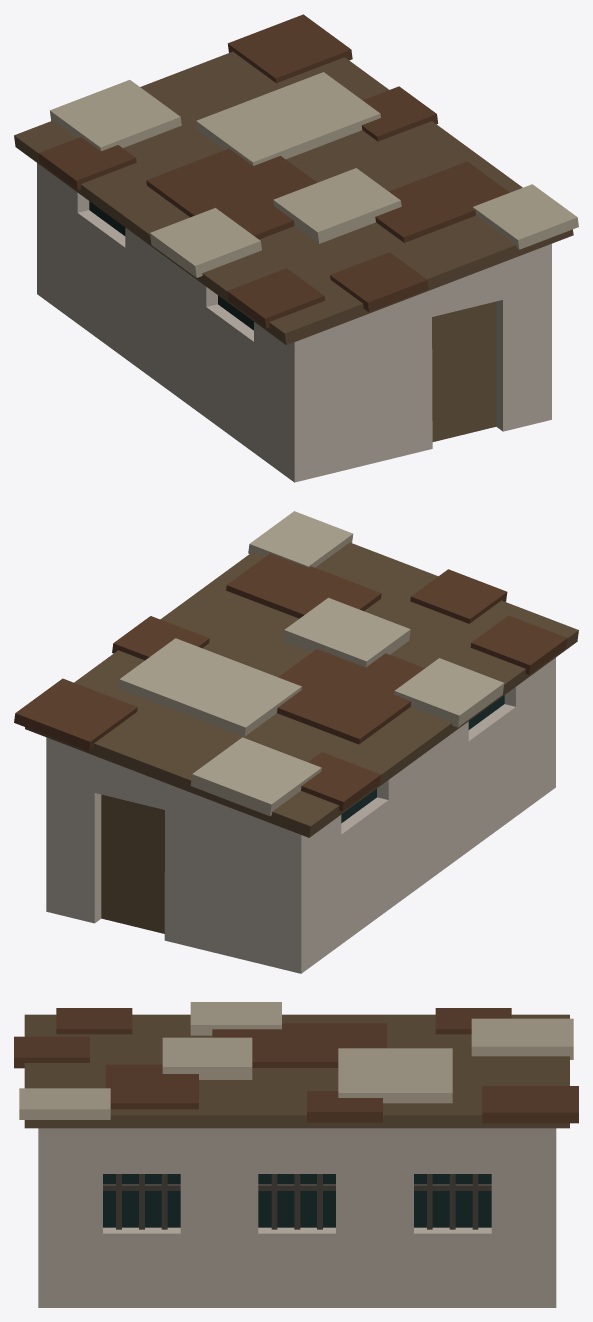
The model's file is Building_mode_L1_Farm001.fbx.
The picture shows the model from 3 angles, top to bottom: view 1: azimuth 30°, elevation 25°; view 2: azimuth 150°, elevation 25°; view 3: azimuth 270°, elevation 25°; orthographic projection.
Parts seen in each view (by area): view 1: Building_mode_L1_Farm001; view 2: Building_mode_L1_Farm001; view 3: Building_mode_L1_Farm001.
Boxes of the visible parts, x1,y1,x2,y2 form: Building_mode_L1_Farm001: (14, 14, 578, 482); Building_mode_L1_Farm001: (14, 511, 578, 973); Building_mode_L1_Farm001: (14, 1002, 578, 1307).
Bounding box in the file's own units: 3.81 × 2.47 × 6.13.
